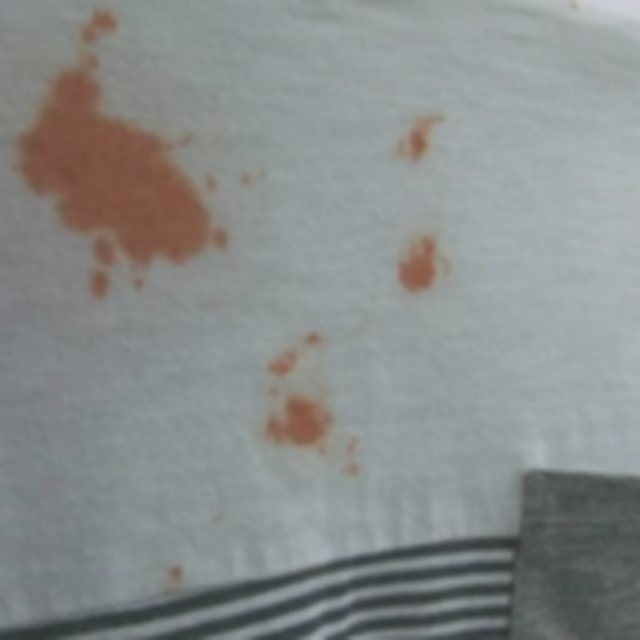kimchi: (8, 5, 270, 302), (234, 329, 374, 481), (386, 225, 472, 319), (391, 97, 450, 179), (154, 551, 206, 589), (194, 504, 239, 534)
